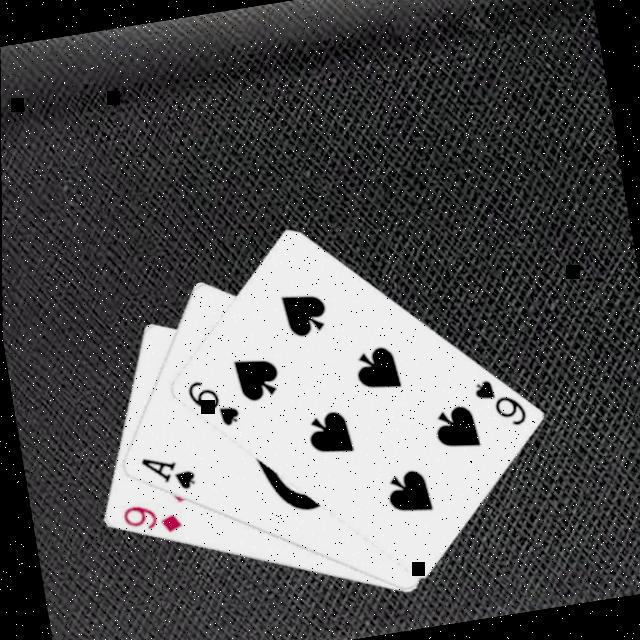6S: (469, 370, 531, 434), (182, 370, 243, 434)
9D: (117, 494, 186, 543)
AS: (136, 447, 199, 499)
